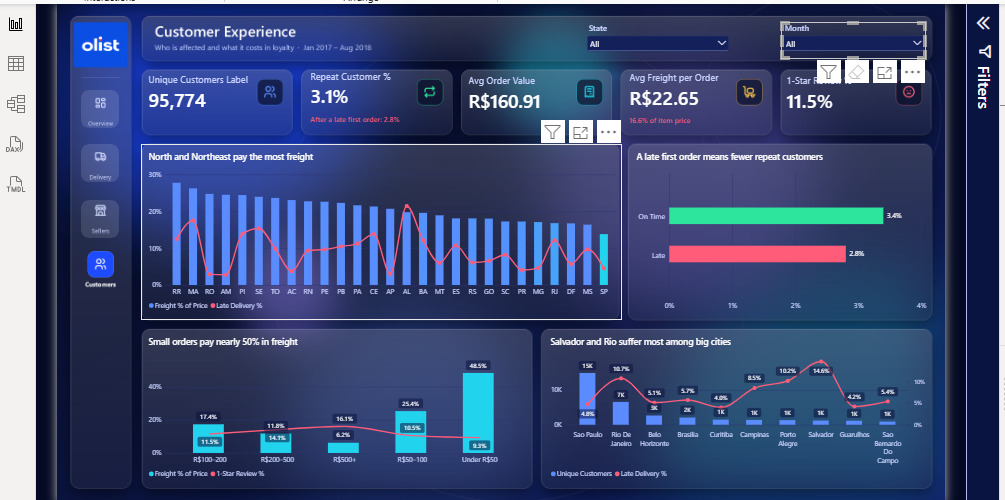

This screenshot's page, from the dashboard's own definition file:
{"tool":"powerbi","page":{"name":"Customers","canvas":[1920,1080],"ordinal":4},"visuals":[{"type":"cardVisual","fields":{"Data":["_Measures.Unique Customers Label"]},"box":[181.4,114.5,252.7,153.4],"z":0},{"type":"slicer","fields":{"Values":["Calendar.Year-Month"]},"box":[1563.1,39.3,313.8,80.5],"z":1000},{"type":"slicer","fields":{"Values":["Customers.customer_state"]},"box":[1140.5,38.9,315.4,79.9],"z":2000},{"type":"cardVisual","fields":{"Data":["_Measures.1-Star Review %"]},"box":[1559.5,116.6,248.4,153.4],"z":3000},{"type":"cardVisual","fields":{"Data":["_Measures.Avg Freight per Order"]},"box":[1220.4,149,235.4,153.4],"z":4000},{"type":"cardVisual","fields":{"Data":["_Measures.Avg Order Value"]},"box":[872.6,116.6,244.1,153.4],"z":5000},{"type":"cardVisual","fields":{"Data":["_Measures.Repeat Customer %"]},"box":[532.1,147.3,243.5,153.2],"z":6000},{"type":"actionButton","box":[51.8,302.4,82.1,82.1],"z":7000},{"type":"actionButton","box":[51.8,185.8,82.1,82.1],"z":8000},{"type":"actionButton","box":[51.8,423.4,82.1,82.1],"z":9000},{"type":"lineClusteredColumnComboChart","title":"North and Northeast pay the most freight","fields":{"Category":["Customers.customer_state"],"Y":["_Measures.Freight % of Price"],"Y2":["_Measures.Late Delivery %"]},"box":[181.4,302.4,1039,380.2],"z":9001},{"type":"clusteredBarChart","title":"A late first order means fewer repeat customers","fields":{"Category":["Orders.Delivery Status"],"Y":["_Measures.Repeat Rate (First Orders)"]},"box":[1235.5,302.4,658.8,380.2],"z":9002},{"type":"lineClusteredColumnComboChart","title":"Small orders pay nearly 50% in freight","fields":{"Category":["Orders.Basket Bucket"],"Y":["_Measures.Freight % of Price"],"Y2":["_Measures.1-Star Review %"]},"box":[181.4,702,842.4,343.4],"z":9004},{"type":"lineClusteredColumnComboChart","title":"Salvador and Rio suffer most among big cities","fields":{"Category":["Customers.customer_city"],"Y":["_Measures.Unique Customers"],"Y2":["_Measures.Late Delivery %"]},"box":[1049.8,702,844.6,343.4],"z":9005},{"type":"actionButton","box":[51.8,650.2,82.1,84.2],"z":9006}]}

Visuals, with their boxes on the page's 1920x1080 design canvas (x1, y1, x2, y2). These are canvas units, not pixel positions in the 1005x500 screenshot, which may show the page scaled, cropped or inside an application window:
cardVisual - _Measures.Unique Customers Label: l=181, t=114, r=434, b=268
slicer - Calendar.Year-Month: l=1563, t=39, r=1877, b=120
slicer - Customers.customer_state: l=1140, t=39, r=1456, b=119
cardVisual - _Measures.1-Star Review %: l=1560, t=117, r=1808, b=270
cardVisual - _Measures.Avg Freight per Order: l=1220, t=149, r=1456, b=302
cardVisual - _Measures.Avg Order Value: l=873, t=117, r=1117, b=270
cardVisual - _Measures.Repeat Customer %: l=532, t=147, r=776, b=300
actionButton: l=52, t=302, r=134, b=384
actionButton: l=52, t=186, r=134, b=268
actionButton: l=52, t=423, r=134, b=506
"North and Northeast pay the most freight" lineClusteredColumnComboChart: l=181, t=302, r=1220, b=683
"A late first order means fewer repeat customers" clusteredBarChart: l=1236, t=302, r=1894, b=683
"Small orders pay nearly 50% in freight" lineClusteredColumnComboChart: l=181, t=702, r=1024, b=1045
"Salvador and Rio suffer most among big cities" lineClusteredColumnComboChart: l=1050, t=702, r=1894, b=1045
actionButton: l=52, t=650, r=134, b=734
